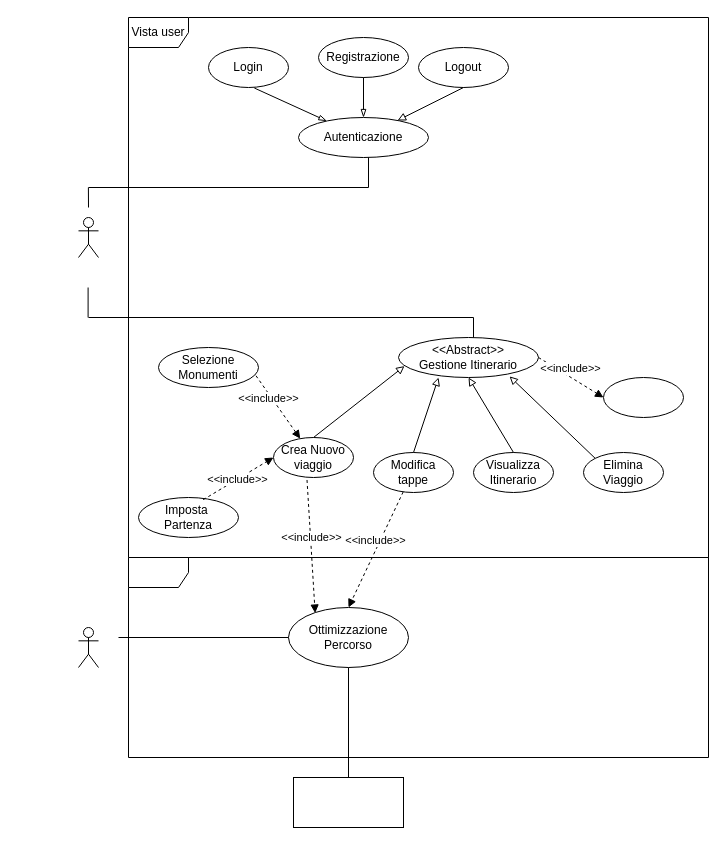
Image size: 726x845. Some labels were removed from this diagram. Here are the shapes that lost their labels. From the top down, the centre of each, then its label:
[88,237]: Utente
[643,397]: Visualizza Storico
[88,647]: Provider Servizi Geografici
[418,657]: Vista SIstema
[348,802]: «actor» SISTEMA
